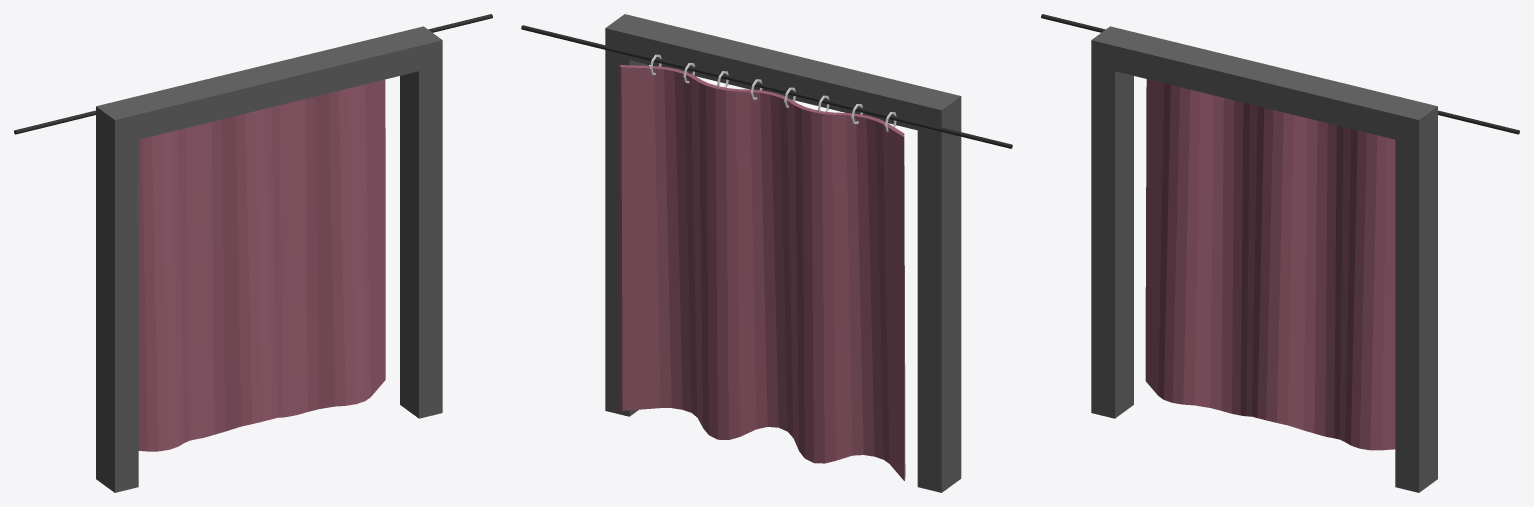
Rendered from Curtains.fbx.
3 views of the same model, side by side, from view 1: azimuth 30°, elevation 25°; view 2: azimuth 150°, elevation 25°; view 3: azimuth 330°, elevation 25° (orthographic). The views are drawn at different scales.
Parts seen in each view (by area): view 1: DoorFrame, Curtain.01, Curtain.02, Curtain Pole; view 2: Curtain.01, Curtain.02, DoorFrame, Curtain Pole; view 3: DoorFrame, Curtain.01, Curtain.02, Curtain Pole.
Boxes of the visible parts, bbox=[...] form: DoorFrame: bbox=[96, 26, 442, 492]; Curtain.01: bbox=[255, 79, 385, 421]; Curtain.02: bbox=[138, 111, 262, 451]; Curtain Pole: bbox=[14, 14, 492, 134]; Curtain.01: bbox=[619, 65, 778, 439]; Curtain.02: bbox=[770, 92, 905, 480]; DoorFrame: bbox=[605, 14, 961, 492]; Curtain Pole: bbox=[521, 25, 1012, 148]; DoorFrame: bbox=[1091, 26, 1437, 492]; Curtain.01: bbox=[1266, 110, 1395, 450]; Curtain.02: bbox=[1145, 79, 1273, 420]; Curtain Pole: bbox=[1041, 14, 1519, 134].
Bounding box in the file's own units: 291 × 217 × 36.06.
